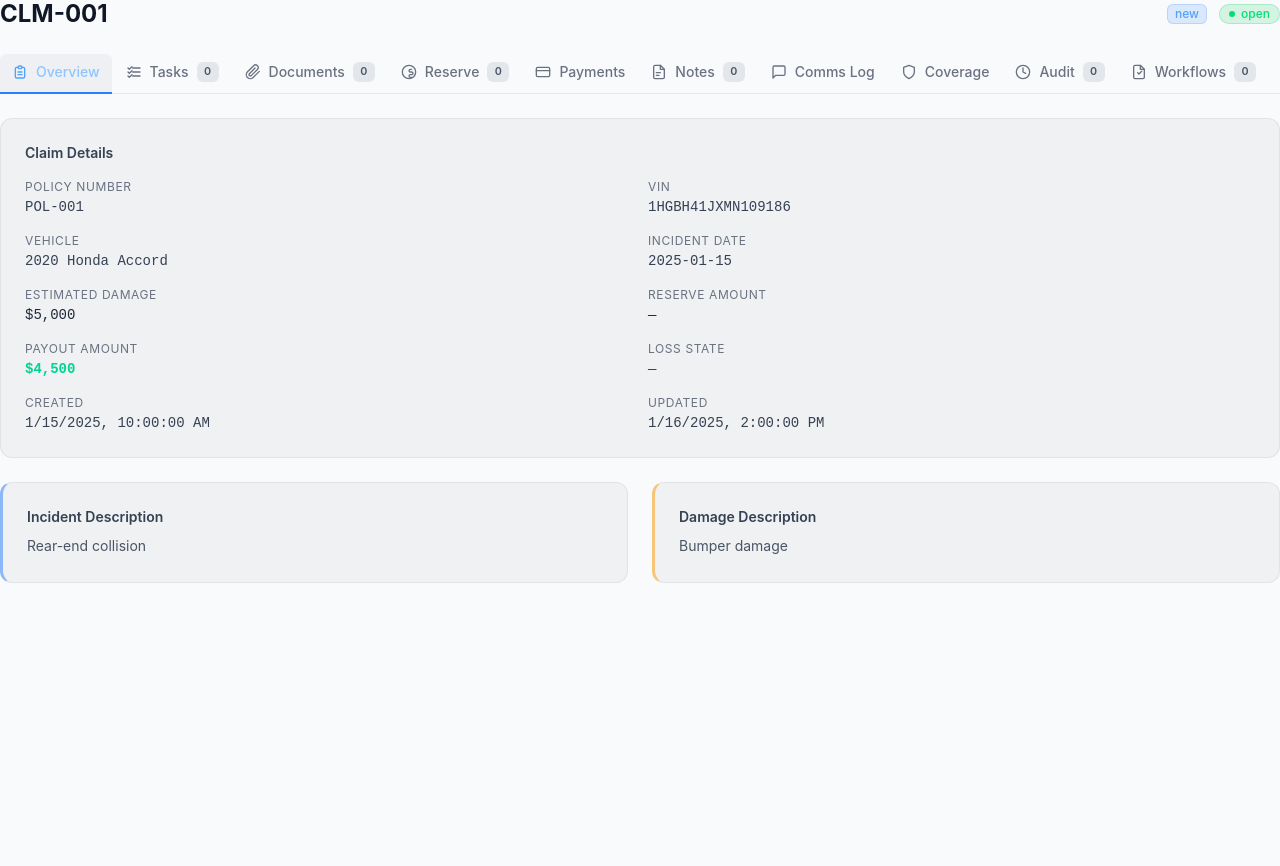
it: ClaimDetail › shows document requests in documents tab
This screenshot has width=1280, height=866.
Click the tab "Documents 0": click(310, 74) [232,54,387,94]
(page scrolled)
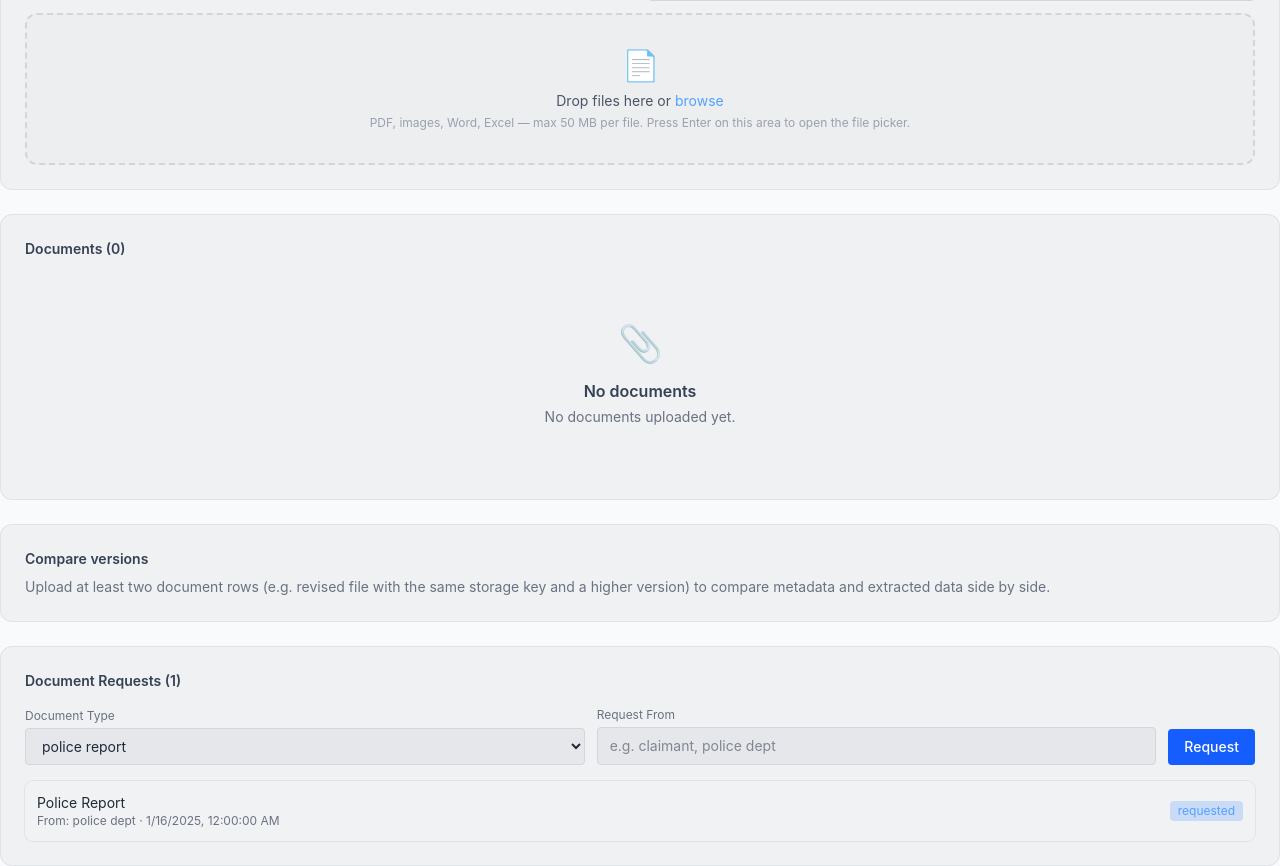
Check: the heading "Document Requests (1)" is shown, box [25,672,181,689]
Check: the text "From: police dept · 1/16/2025, 12:00:00 AM" is shown, box [37,813,280,829]
